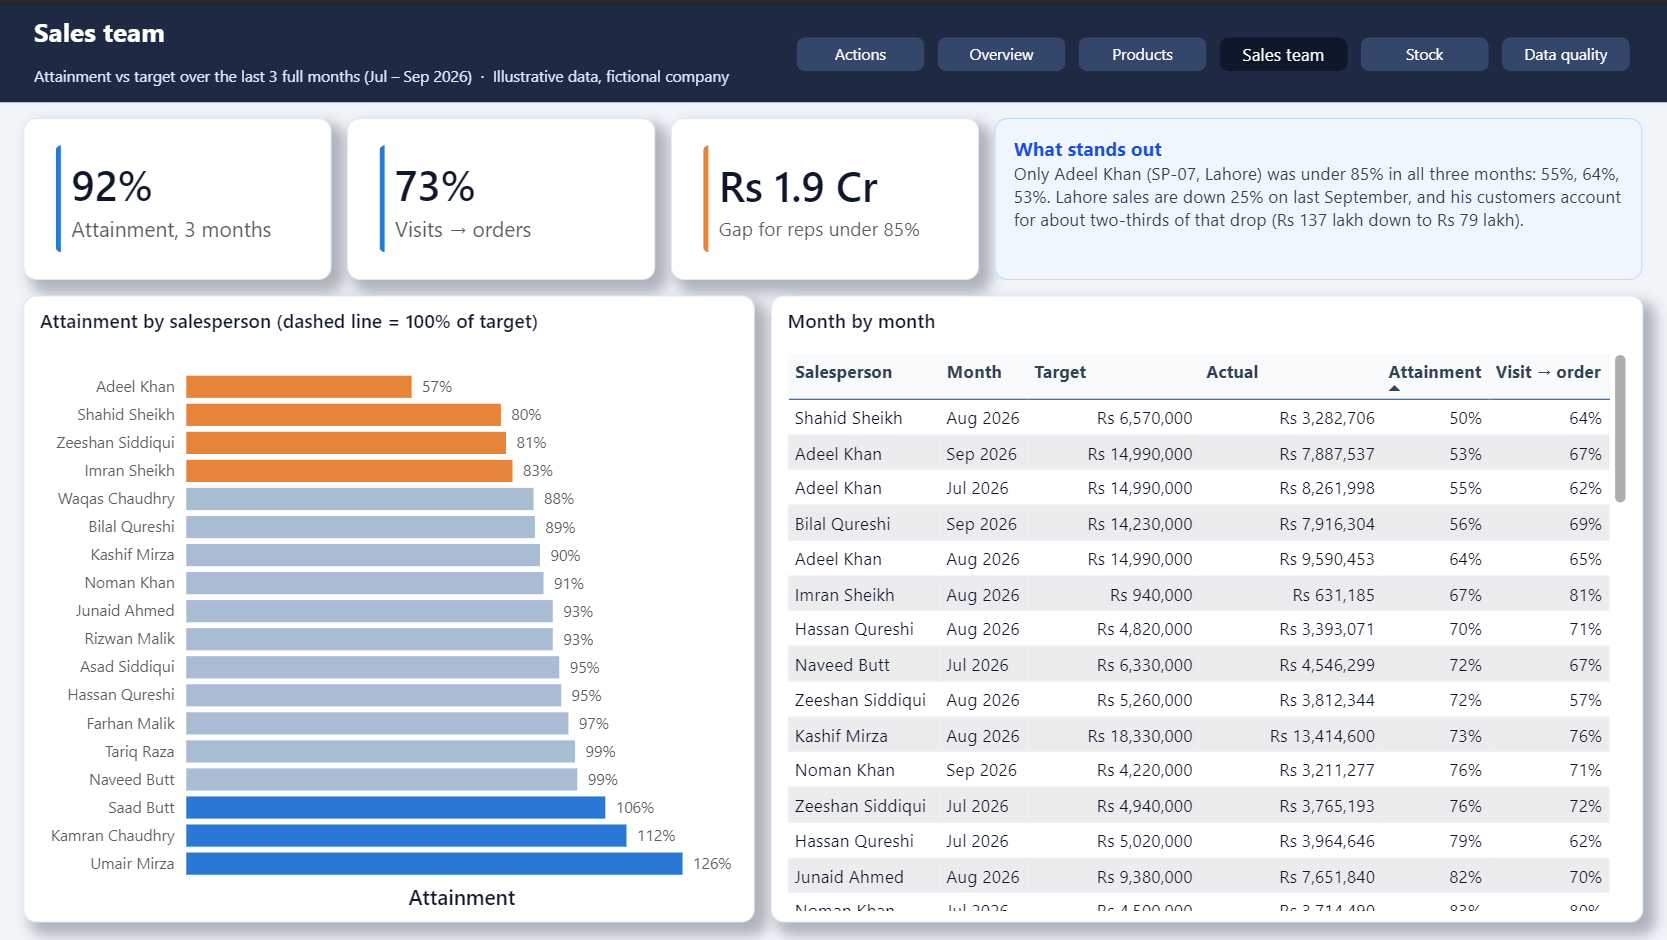

The dashboard page shown, as its layout file describes it:
{"tool":"powerbi","page":{"name":"Sales team","canvas":[1280,720],"ordinal":3},"visuals":[{"type":"textbox","box":[0,0,1280,76],"z":1000},{"type":"textbox","box":[16,0,580,46],"z":2000},{"type":"textbox","box":[16,38,580,36],"z":3000},{"type":"pageNavigator","box":[600,18,664,42],"z":4000},{"type":"cardVisual","fields":{"Data":["mart_salesperson_attainment.Attainment %"]},"box":[20,88,236,124],"z":5000},{"type":"cardVisual","fields":{"Data":["mart_salesperson_attainment.Visit to Order %"]},"box":[268,88,236,124],"z":6000},{"type":"cardVisual","fields":{"Data":["mart_salesperson_attainment.Shortfall Text"]},"box":[516,88,236,124],"z":7000},{"type":"textbox","box":[764,88,496,124],"z":8000},{"type":"clusteredBarChart","title":"Attainment by salesperson (dashed line = 100% of target)","fields":{"Category":["mart_salesperson_attainment.salesperson_name"],"Y":["mart_salesperson_attainment.Attainment %"]},"box":[20,224,560,480],"z":9000},{"type":"tableEx","title":"Month by month","fields":{"Values":["mart_salesperson_attainment.salesperson_name","mart_salesperson_attainment.month_start","mart_salesperson_attainment.Target PKR","mart_salesperson_attainment.Actual PKR","mart_salesperson_attainment.Attainment %","mart_salesperson_attainment.Visit to Order %"]},"box":[592,224,668,480],"z":10000}]}

Visuals, with their boxes in screenshot pixels (x1, y1, x2, y2), scaled from the page's 1280x720 canvas onto the 1667x940 screenshot:
textbox: select_region(0, 0, 1666, 99)
textbox: select_region(21, 0, 776, 60)
textbox: select_region(21, 50, 776, 97)
pageNavigator: select_region(781, 24, 1646, 78)
cardVisual - mart_salesperson_attainment.Attainment %: select_region(26, 115, 333, 277)
cardVisual - mart_salesperson_attainment.Visit to Order %: select_region(349, 115, 656, 277)
cardVisual - mart_salesperson_attainment.Shortfall Text: select_region(672, 115, 979, 277)
textbox: select_region(995, 115, 1641, 277)
"Attainment by salesperson (dashed line = 100% of target)" clusteredBarChart: select_region(26, 292, 755, 919)
"Month by month" tableEx: select_region(771, 292, 1641, 919)
